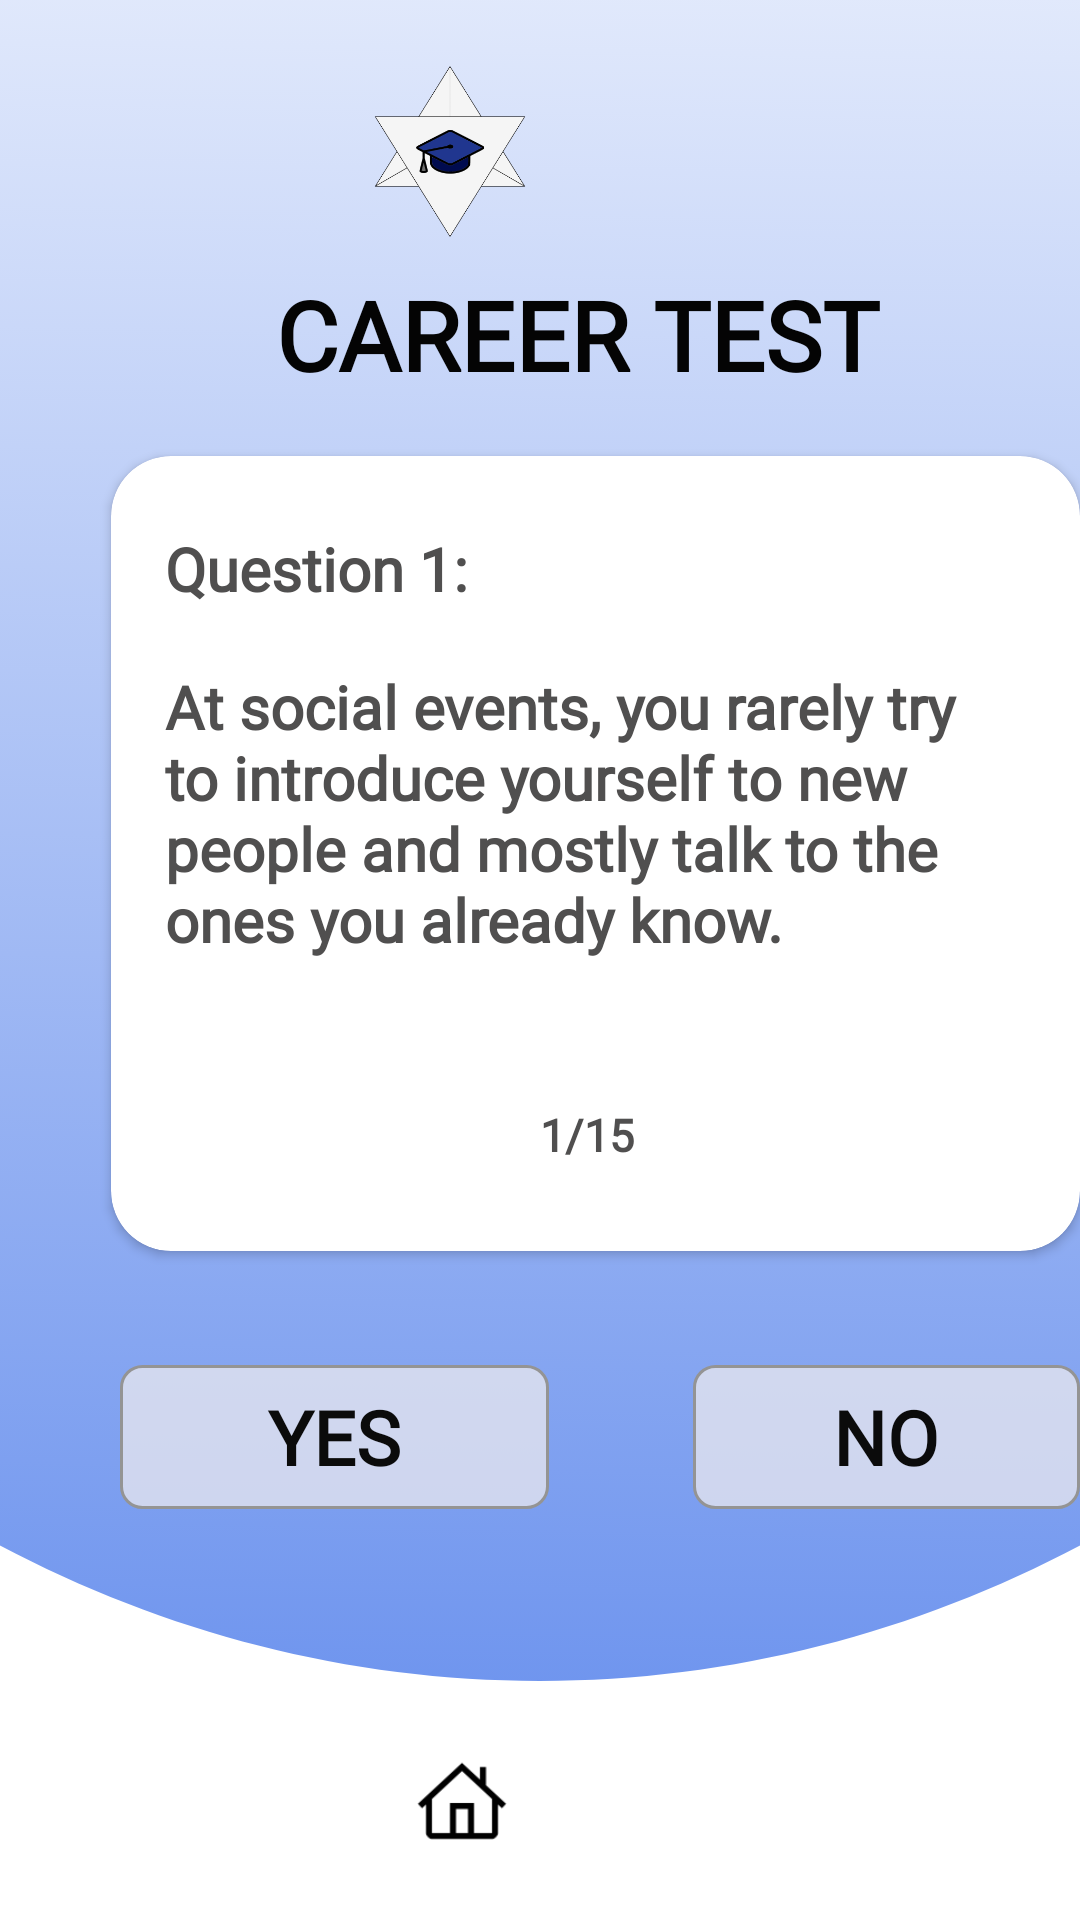

Named icons in this screenshot (1080px x 1920px) and their centers, [x,y]:
homeicon: [462,1801]
